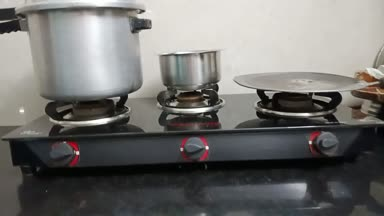flame_gas_off: (256, 87, 361, 158), (41, 100, 130, 172), (161, 87, 230, 165)
